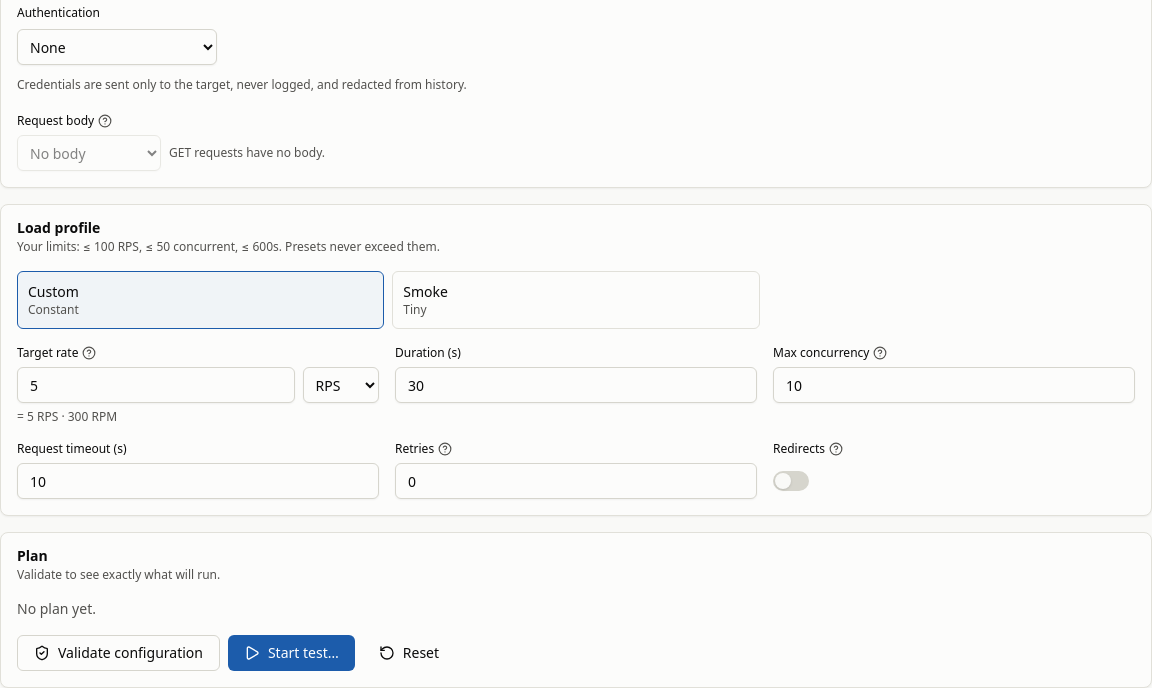
TestConfigForm › shows server validation errors
(page scrolled)
Click the button "Validate configuration" at {"x": 118, "y": 653}, box [17, 635, 220, 671]
(page scrolled)
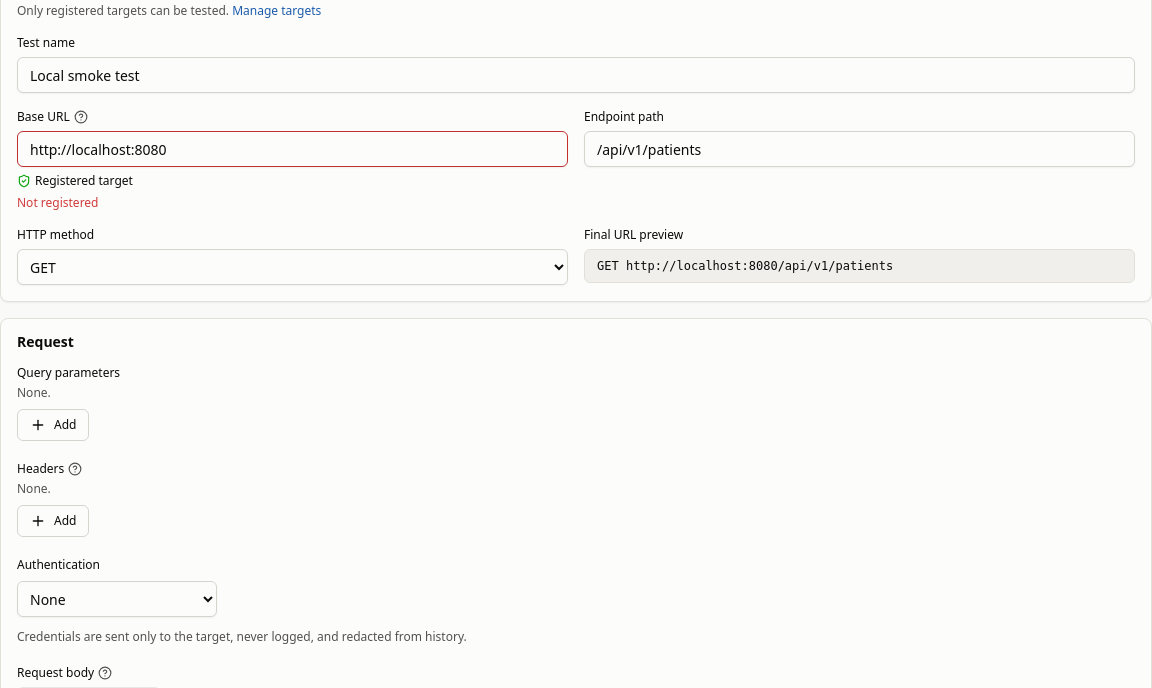
Expected: the text "Not registered" is shown, [17, 194, 98, 211]
